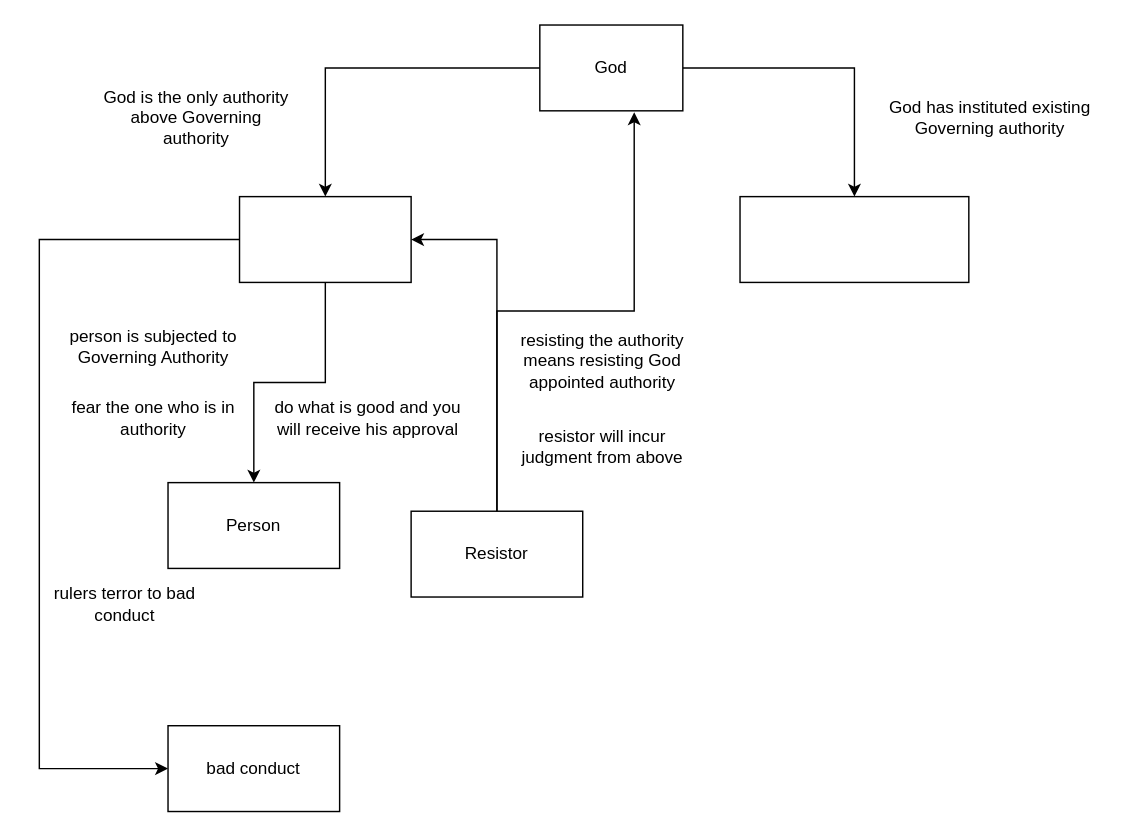
This 1121x837 diagram has some shape labels left out. Here are the shapes that lost their labels. From the top down, the centre of each, then its label:
At point 324,238: "Governing authority(rulers)".
At point 854,238: "Existing Governing authority".
